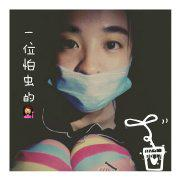WRONG: (49, 24, 129, 108)
